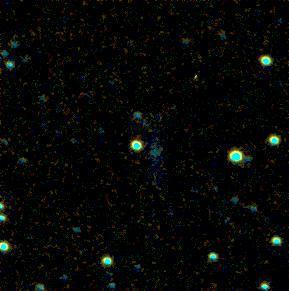star: (184, 53, 214, 83)
